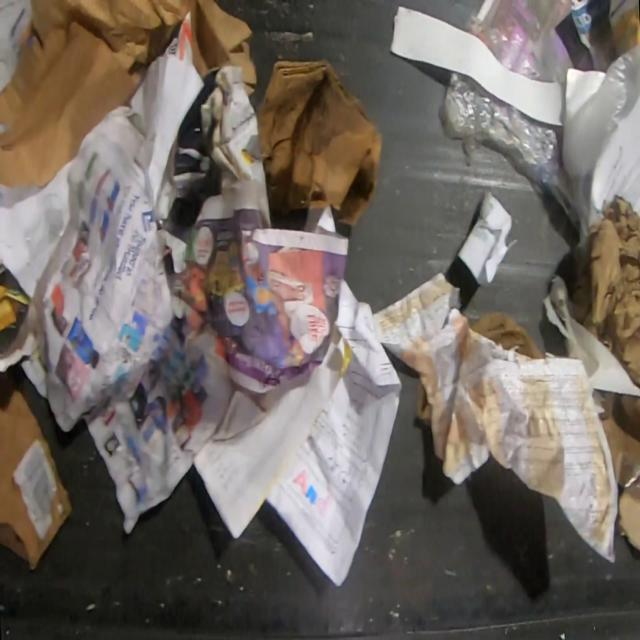cardboard: (0, 0, 259, 189), (257, 60, 381, 231), (0, 382, 74, 570), (575, 196, 640, 390), (615, 473, 640, 557)
soft_plastic: (442, 70, 580, 246), (572, 37, 640, 284), (461, 0, 576, 82)
